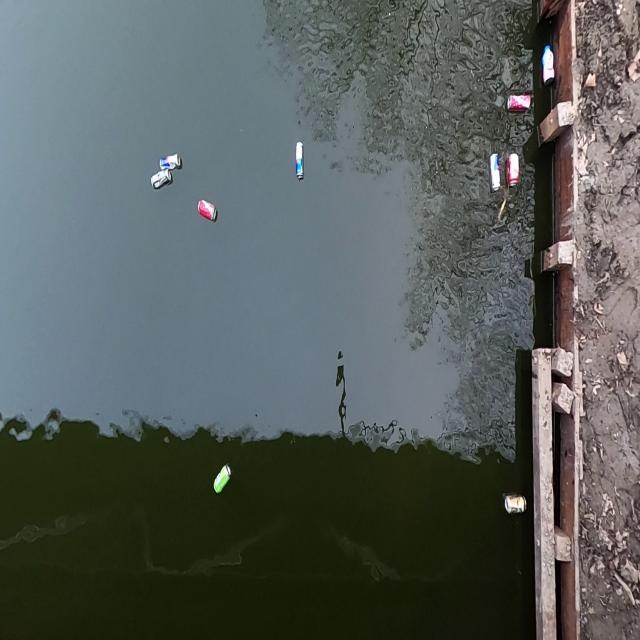Non plastique: (288, 127, 314, 187), (190, 189, 223, 229), (501, 487, 534, 524), (210, 459, 237, 503), (504, 87, 535, 123), (505, 147, 525, 195), (488, 147, 507, 197), (155, 147, 185, 171), (150, 169, 176, 193)
